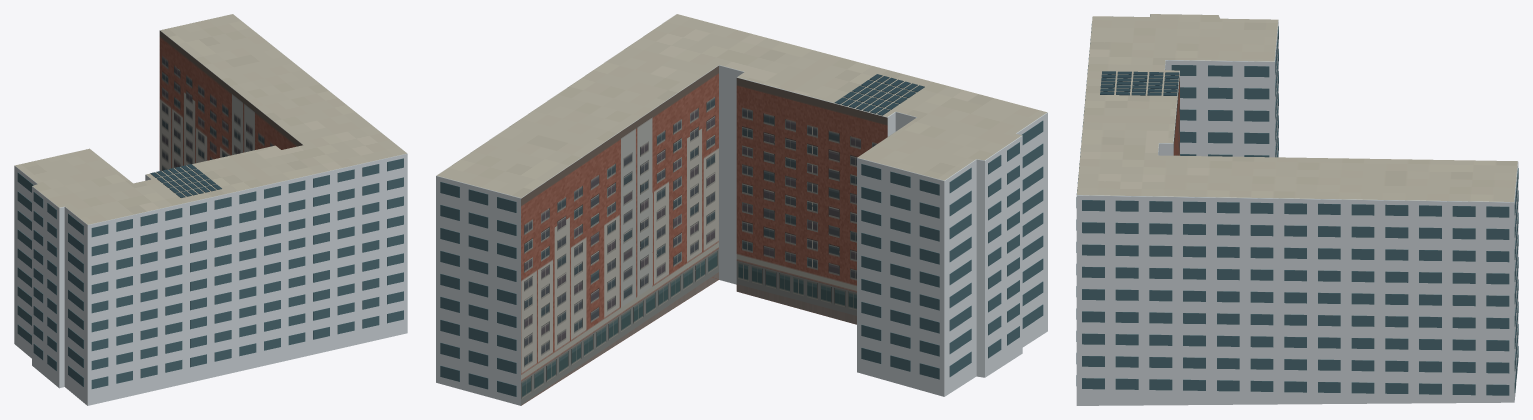
File: intact.glb
The picture shows the model from 3 angles, left to right: view 1: azimuth 30°, elevation 25°; view 2: azimuth 150°, elevation 25°; view 3: azimuth 270°, elevation 25°; orthographic projection. The views are drawn at different scales.
Parts seen in each view (by area): view 1: SM_boram_Intact_00, SM_boram_Intact_01, SM_boram_Intact_02; view 2: SM_boram_Intact_00, SM_boram_Intact_01, SM_boram_Intact_02; view 3: SM_boram_Intact_00, SM_boram_Intact_01, SM_boram_Intact_02.
Boxes of the visible parts, x1=… form: SM_boram_Intact_00: x1=14, y1=14, x2=407, y2=405; SM_boram_Intact_01: x1=17, y1=158, x2=403, y2=388; SM_boram_Intact_02: x1=150, y1=164, x2=221, y2=197; SM_boram_Intact_00: x1=436, y1=14, x2=1047, y2=405; SM_boram_Intact_01: x1=440, y1=120, x2=1043, y2=396; SM_boram_Intact_02: x1=834, y1=74, x2=924, y2=115; SM_boram_Intact_00: x1=1076, y1=14, x2=1518, y2=405; SM_boram_Intact_01: x1=1076, y1=24, x2=1518, y2=395; SM_boram_Intact_02: x1=1100, y1=71, x2=1179, y2=95.
Bounding box in the file's own units: 2.2 × 1.16 × 2.18.
7 materials, 3 textured.
